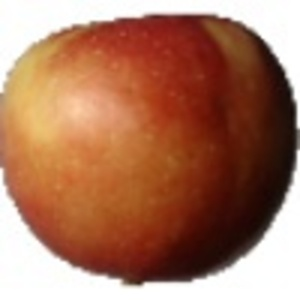maçã braeburn: (1, 12, 300, 282)
